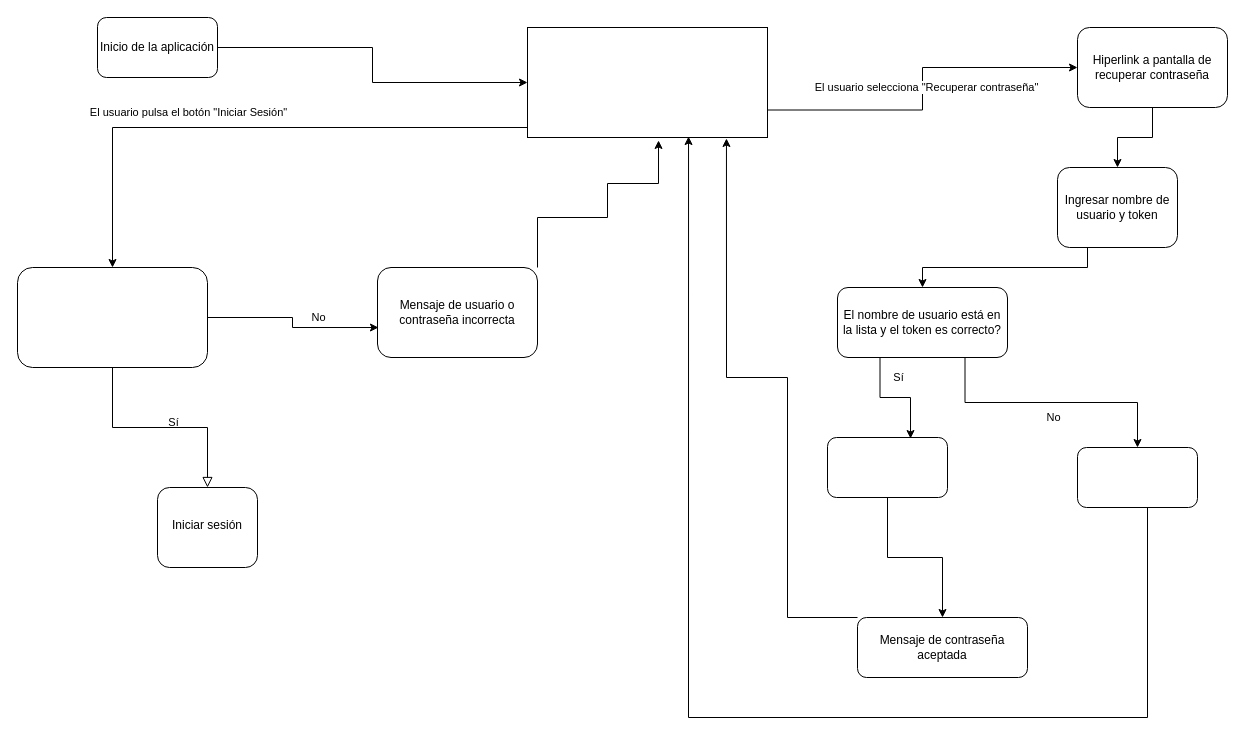
The diagram is 1245 pixels wide and 743 high, and some of its shapes have lost their labels. Each missing label, with the centre of its shape:
"Cerrar programa, volver a intentar en 15 minutos" goes at point 1137,477.
"Ingresar contraseña nueva y confirmarla" goes at point 887,467.
"Solicitar al usuario que ingrese mail y contraseña (Dar tres intentos)" goes at point 647,82.
"Usuario y contraseña están en la lista?" goes at point 112,317.
